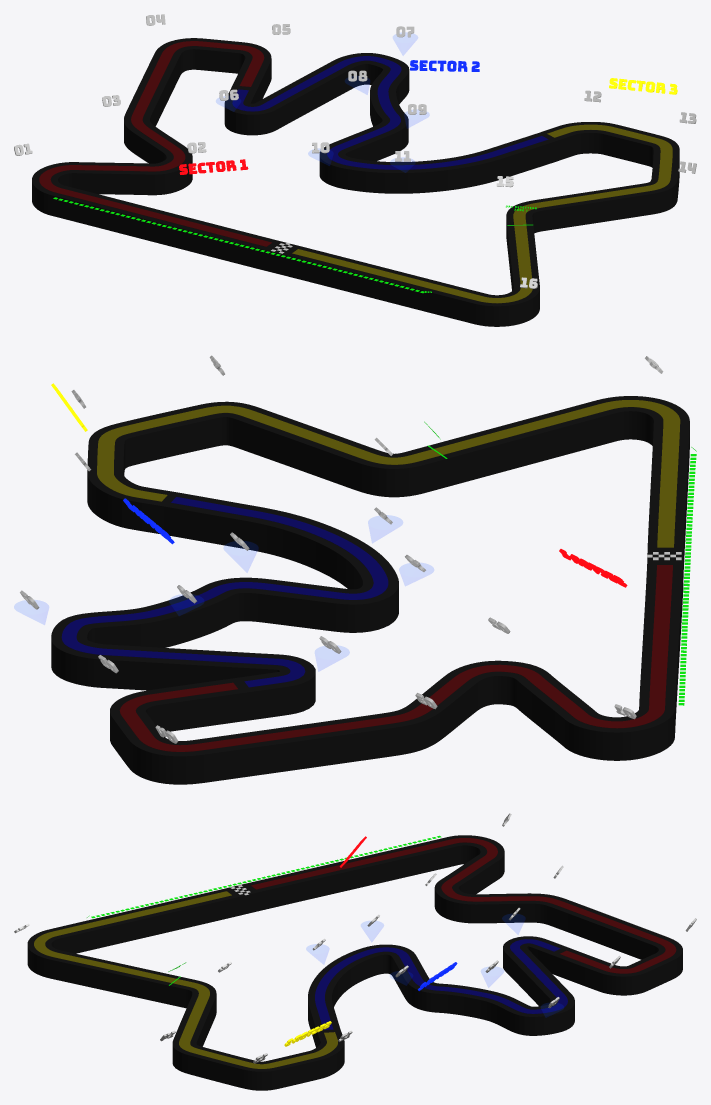
File: losail.gltf
3 views of the same model, one above another, from view 1: azimuth 30°, elevation 25°; view 2: azimuth 150°, elevation 25°; view 3: azimuth 270°, elevation 25° (orthographic). The views are drawn at different scales.
Visible parts, largest first — view 1: track plane, sector 1 pane, sector 3 plane, sector 2 plane, DRSPlane2, Text.002, Text.001, Text; view 2: track plane, sector 3 plane, sector 1 pane, sector 2 plane, DRSPlane2; view 3: track plane, sector 1 pane, sector 3 plane, sector 2 plane, DRSPlane2.
Boxes of the visible parts, x1,y1,x2,y2 form: track plane: (32, 38, 679, 326); sector 1 pane: (39, 41, 271, 246); sector 3 plane: (292, 124, 672, 303); sector 2 plane: (232, 56, 548, 169); DRSPlane2: (53, 197, 424, 293); Text.002: (609, 78, 677, 94); Text.001: (410, 60, 479, 71); Text: (179, 159, 248, 174); track plane: (51, 396, 689, 784); sector 3 plane: (97, 400, 680, 547); sector 1 pane: (119, 565, 672, 751); sector 2 plane: (61, 497, 388, 687); DRSPlane2: (678, 454, 696, 705); track plane: (27, 835, 682, 1090); sector 1 pane: (251, 838, 676, 973); sector 3 plane: (34, 891, 337, 1068); sector 2 plane: (315, 939, 567, 1029); DRSPlane2: (91, 835, 441, 918).
Size of what is drawn, in the model's own units: 90.1 by 10.01 by 106.
